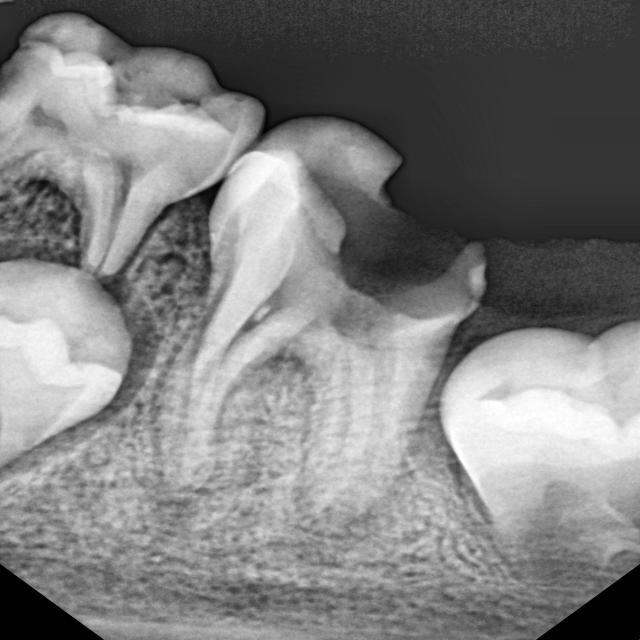Badly Decayed: (194, 96, 528, 357)
